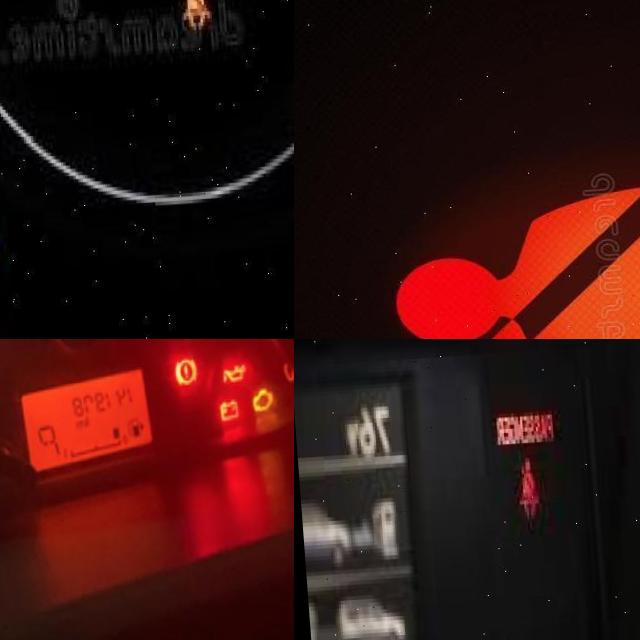Seat Belt: (384, 129, 640, 339), (508, 460, 537, 521), (172, 0, 209, 38)
